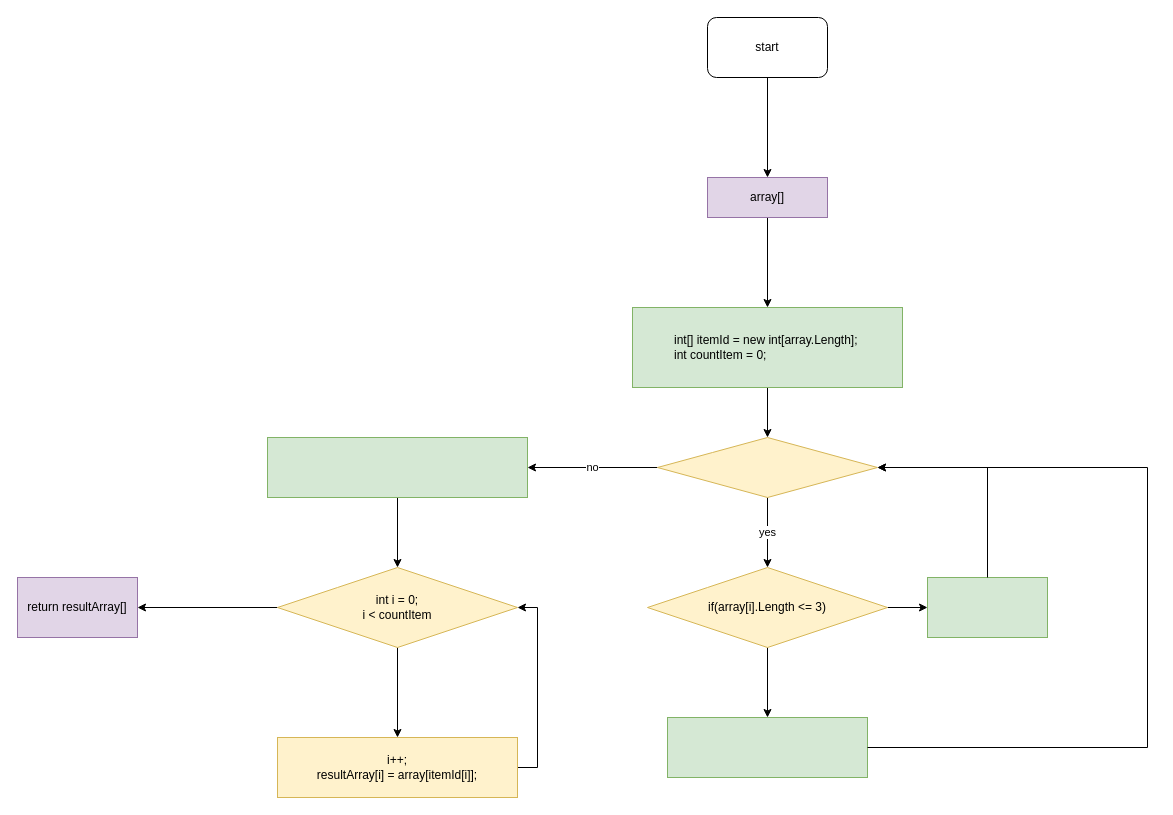
This 1173x815 diagram has some shape labels left out. Each missing label, with the centre of its shape:
i++;: [987,607]
int i = 0; i < array.Length;: [767,467]
itemId[countItem] = i; countItem++;: [767,747]
string[] resultArray = new string[countItem];: [397,467]
